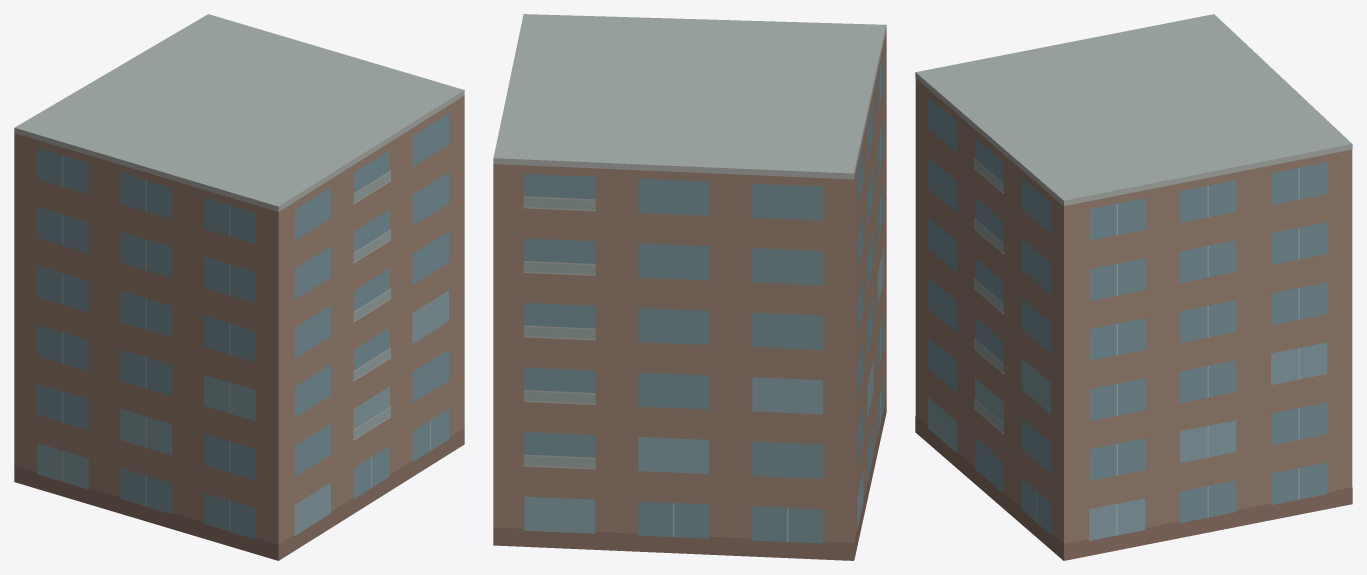
The model's file is survey-upis-32738310.glb.
The picture shows the model from 3 angles, left to right: view 1: azimuth 30°, elevation 25°; view 2: azimuth 150°, elevation 25°; view 3: azimuth 270°, elevation 25°; orthographic projection. The views are drawn at different scales.
Visible parts, largest first — view 1: survey-upis-32738310.tmp; view 2: survey-upis-32738310.tmp; view 3: survey-upis-32738310.tmp.
Boxes of the visible parts, <box> form: survey-upis-32738310.tmp: <box>14,14,464,560</box>; survey-upis-32738310.tmp: <box>493,14,886,560</box>; survey-upis-32738310.tmp: <box>915,14,1352,560</box>.
Size of the model in its own units: 17.8 by 16 by 17.6.
